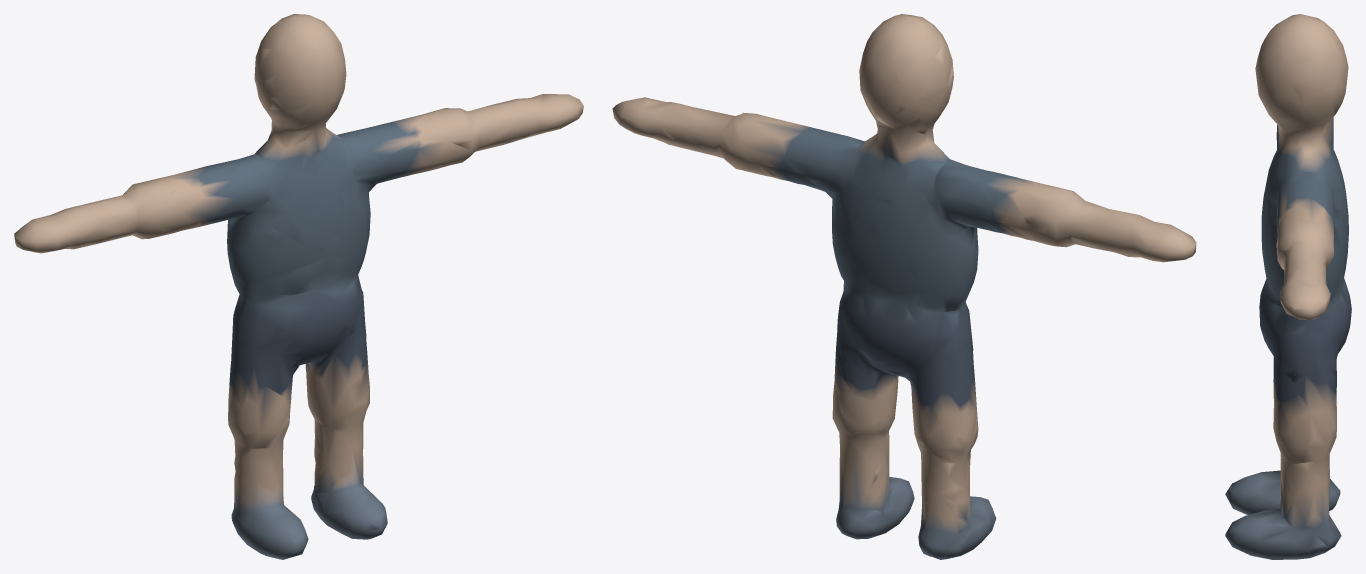
File: atlas-refined.glb
3 views of the same model, side by side, from view 1: azimuth 30°, elevation 25°; view 2: azimuth 150°, elevation 25°; view 3: azimuth 270°, elevation 25° (orthographic). The views are drawn at different scales.
Visible parts, largest first — view 1: world; view 2: world; view 3: world.
Part boxes in pixels (<box>): world: <box>14,14,583,559</box>; world: <box>612,14,1196,559</box>; world: <box>1225,14,1351,559</box>.
Bounding box in the file's own units: 2.55 × 2.23 × 0.4927.
